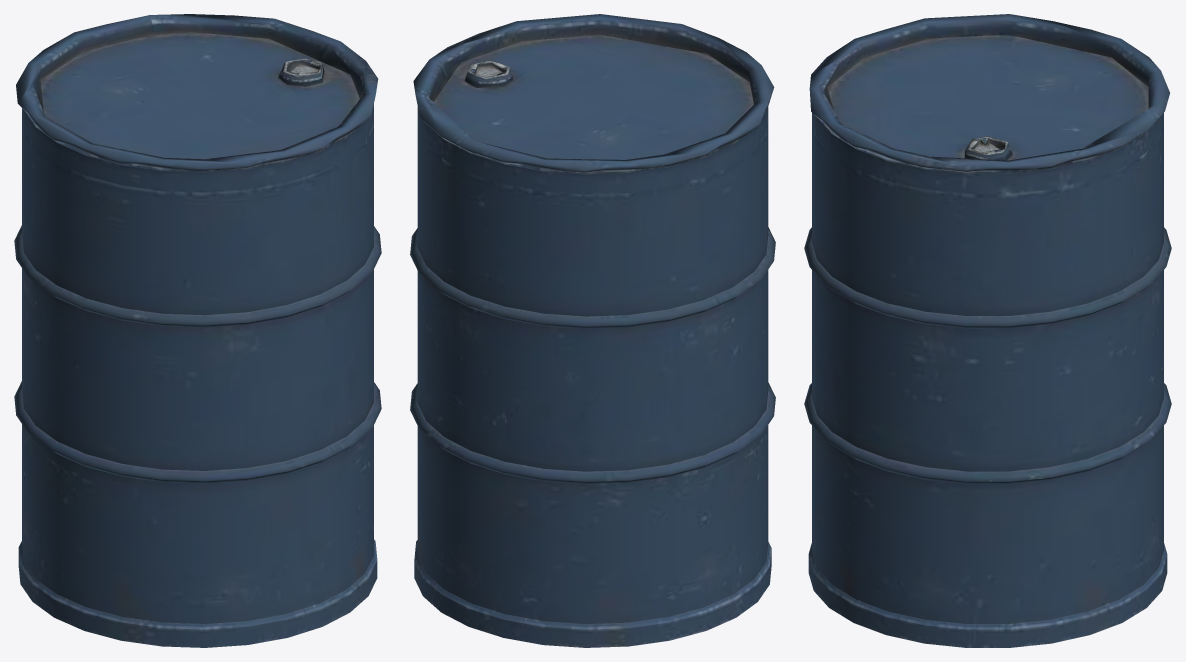
The model's file is barrel_03.glb.
The picture shows the model from 3 angles, left to right: view 1: azimuth 30°, elevation 25°; view 2: azimuth 150°, elevation 25°; view 3: azimuth 270°, elevation 25°; orthographic projection.
Parts seen in each view (by area): view 1: barrel_03; view 2: barrel_03; view 3: barrel_03.
Part boxes in pixels (x1,y1,x2,y2): barrel_03: (14, 14, 381, 647); barrel_03: (410, 14, 775, 647); barrel_03: (804, 14, 1171, 647).
Bounding box in the file's own units: 0.634 × 0.9305 × 0.6386.
1 material, 1 textured.
